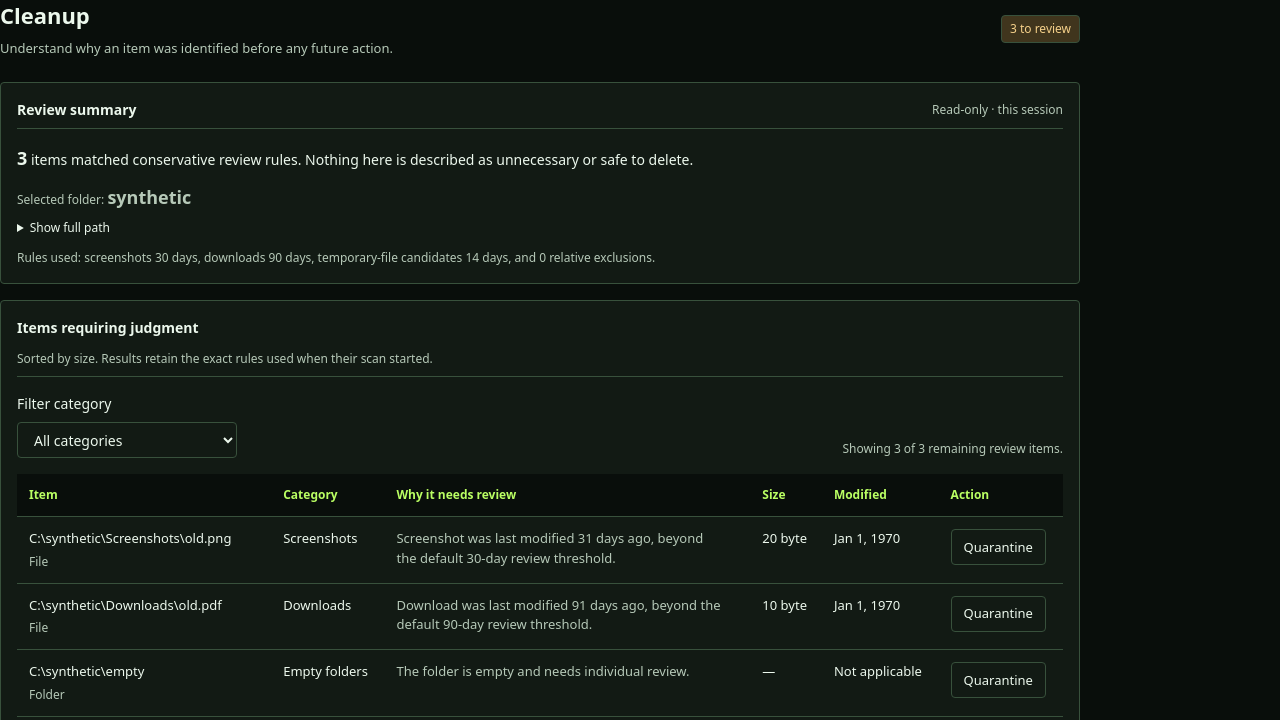
cleanup review › requires confirmation before quarantining one current scan item
Step 1. Click the button "Quarantine" in the row of "C:\\synthetic\\Screenshots\\old.png" → (998, 547), box 951,529 -> 1046,565
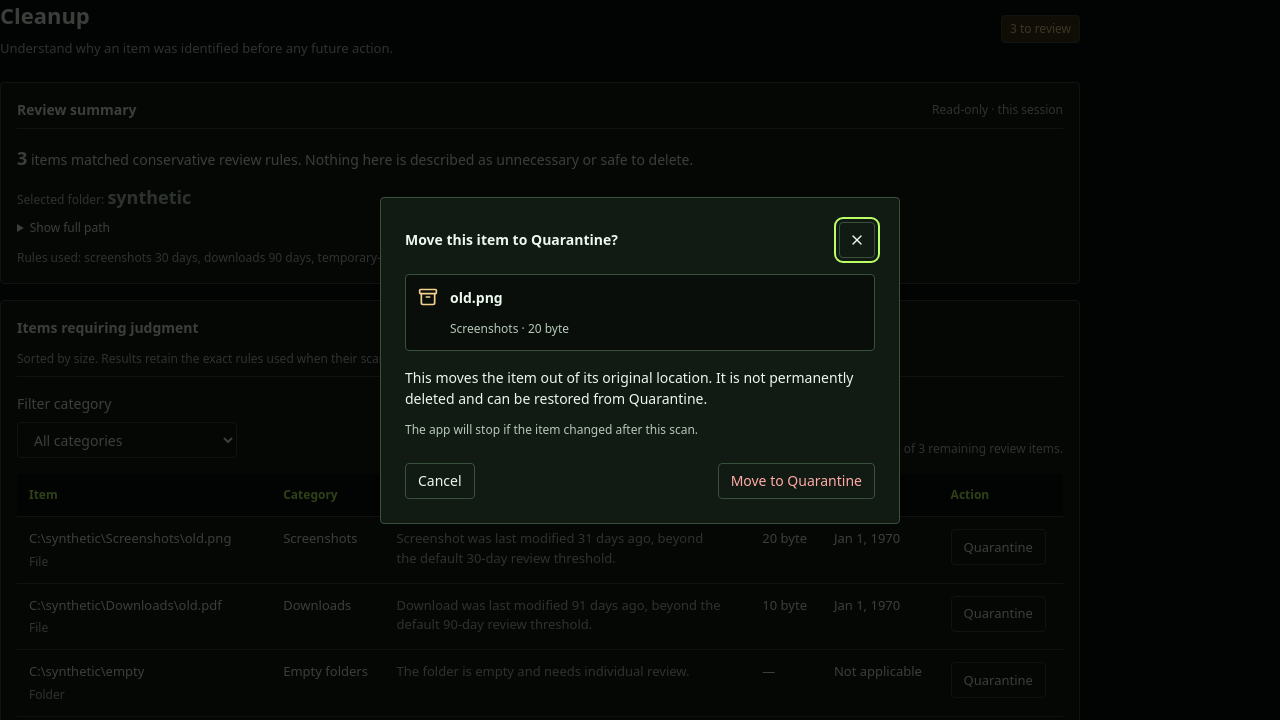
Expected: the dialog "Move this item to Quarantine?" is shown, 380,196 -> 900,524
Step 2. Click the button "Move to Quarantine" → (796, 480), box 718,462 -> 875,498
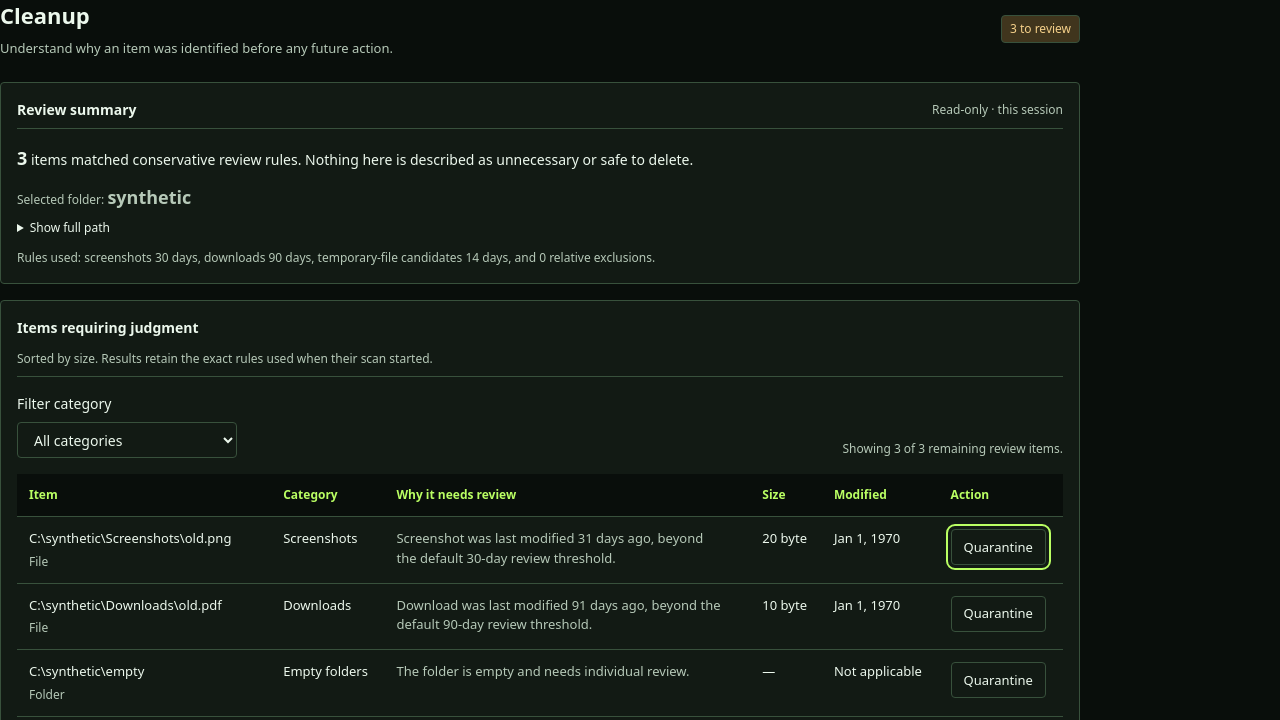
Expected: the dialog is gone
